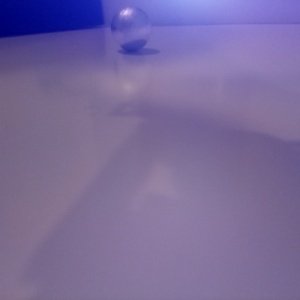alive_ball: (230, 35, 300, 139)
